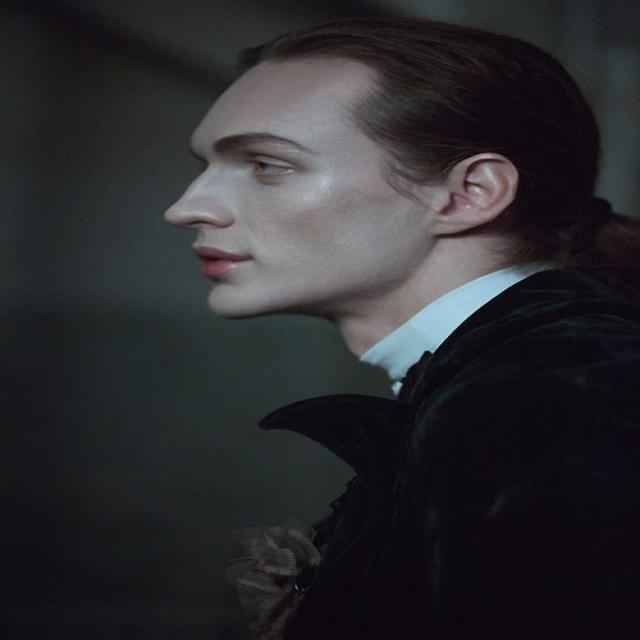earlobe: (434, 152, 517, 235)
